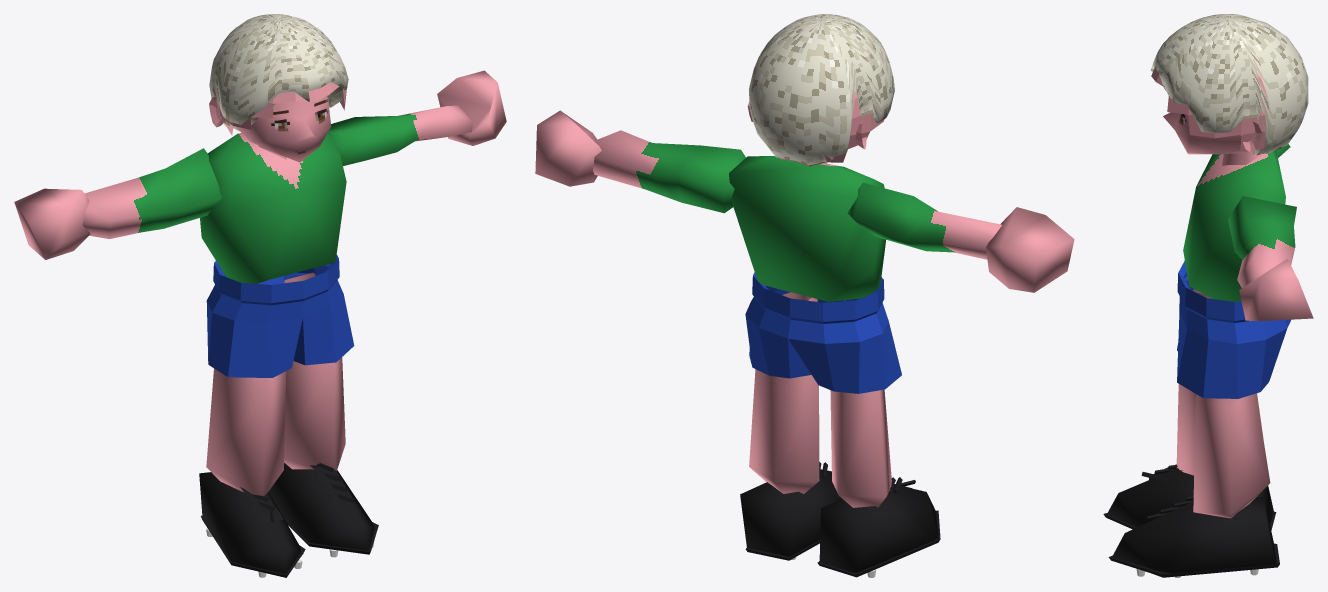
Rendered from 03-raspado_loiro-pintado.glb.
3 renders of one model, left to right at view 1: azimuth 30°, elevation 25°; view 2: azimuth 150°, elevation 25°; view 3: azimuth 270°, elevation 25°, orthographic. The views are drawn at different scales.
Visible parts, largest first — view 1: Camisa_Tronco, Bermuda, Cabelo, Perna.R, Braco.R, Perna.L, Chuteira.R, Chuteira.L, Braco.L, Mao.R, Cabeca, Mao.L (+4 smaller); view 2: Camisa_Tronco, Cabelo, Bermuda, Perna.L, Braco.L, Chuteira.R, Perna.R, Braco.R, Mao.R, Chuteira.L, Mao.L, Couro_Cabeludo (+1 smaller); view 3: Cabelo, Bermuda, Chuteira.L, Camisa_Tronco, Perna.L, Braco.L, Mao.L, Chuteira.R, Perna.R, Couro_Cabeludo, Cabeca, Chuteira_Sola.L (+4 smaller).
Boxes of the visible parts, x1=… form: Camisa_Tronco: x1=200, y1=132, x2=346, y2=283; Bermuda: x1=206, y1=254, x2=354, y2=377; Cabelo: x1=209, y1=14, x2=348, y2=131; Perna.R: x1=206, y1=368, x2=286, y2=500; Braco.R: x1=82, y1=148, x2=222, y2=238; Perna.L: x1=284, y1=272, x2=345, y2=471; Chuteira.R: x1=199, y1=472, x2=303, y2=573; Chuteira.L: x1=269, y1=463, x2=374, y2=550; Braco.L: x1=328, y1=105, x2=473, y2=165; Mao.R: x1=14, y1=188, x2=90, y2=259; Cabeca: x1=235, y1=94, x2=331, y2=162; Mao.L: x1=437, y1=70, x2=506, y2=145; Camisa_Tronco: x1=729, y1=156, x2=885, y2=301; Cabelo: x1=749, y1=14, x2=894, y2=165; Bermuda: x1=745, y1=272, x2=901, y2=393; Perna.L: x1=749, y1=292, x2=819, y2=493; Braco.L: x1=593, y1=130, x2=745, y2=213; Chuteira.R: x1=819, y1=484, x2=938, y2=572; Perna.R: x1=830, y1=389, x2=891, y2=507; Braco.R: x1=847, y1=182, x2=1001, y2=259; Mao.R: x1=985, y1=207, x2=1074, y2=292; Chuteira.L: x1=740, y1=469, x2=841, y2=556; Mao.L: x1=535, y1=110, x2=601, y2=186; Couro_Cabeludo: x1=780, y1=89, x2=884, y2=166; Cabelo: x1=1150, y1=14, x2=1308, y2=154; Bermuda: x1=1177, y1=260, x2=1290, y2=398; Chuteira.L: x1=1112, y1=497, x2=1277, y2=577; Camisa_Tronco: x1=1183, y1=150, x2=1285, y2=301; Perna.L: x1=1193, y1=393, x2=1270, y2=518; Braco.L: x1=1228, y1=196, x2=1296, y2=287; Mao.L: x1=1239, y1=258, x2=1313, y2=321; Chuteira.R: x1=1107, y1=468, x2=1273, y2=527; Perna.R: x1=1176, y1=289, x2=1262, y2=475; Couro_Cabeludo: x1=1151, y1=59, x2=1281, y2=155; Cabeca: x1=1163, y1=112, x2=1249, y2=154; Chuteira_Sola.L: x1=1108, y1=543, x2=1279, y2=577.
Bounding box in the file's own units: 0.4523 × 0.4509 × 0.1617.
3 materials, 3 textured.
